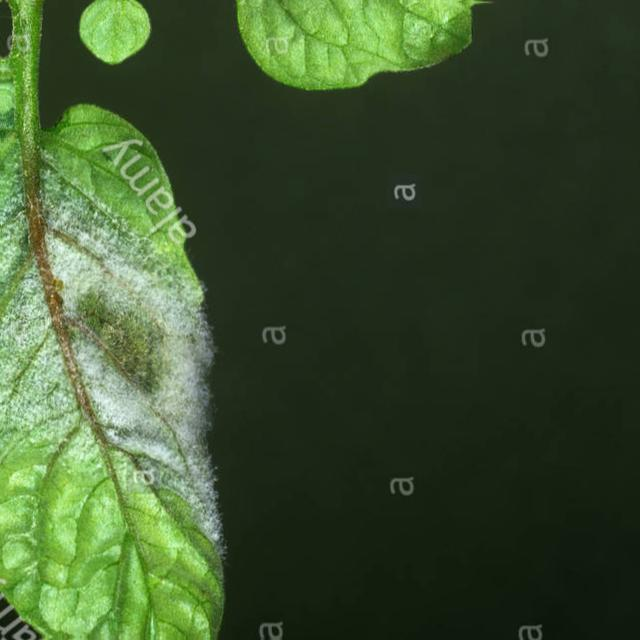Tomato leaf late blight: (0, 0, 239, 639), (158, 0, 640, 94)
